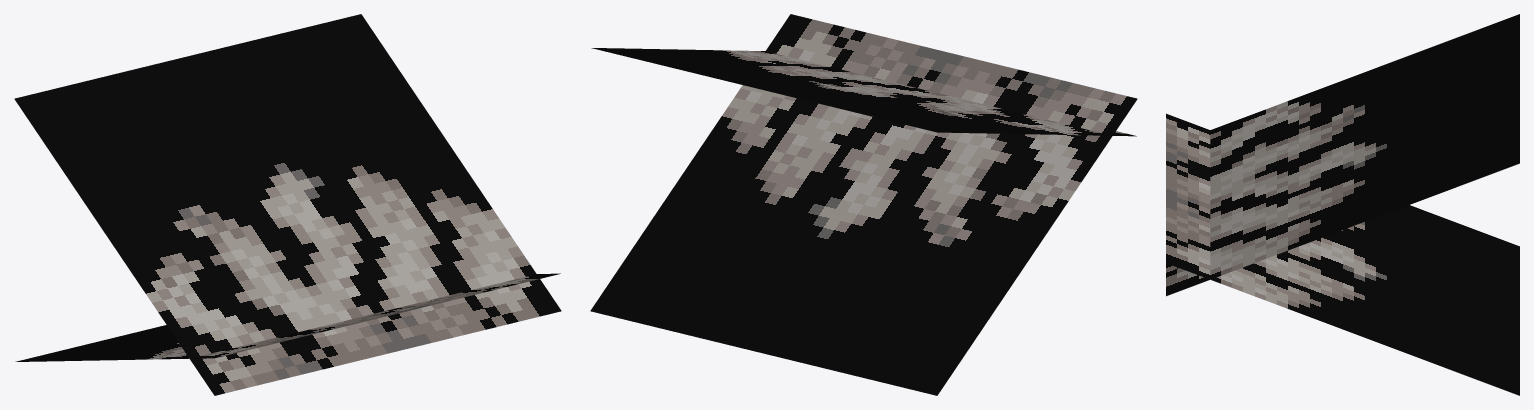
The model's file is block_dead_horn_coral_wall_fan.gltf.
3 views of the same model, side by side, from view 1: azimuth 30°, elevation 25°; view 2: azimuth 150°, elevation 25°; view 3: azimuth 270°, elevation 25° (orthographic). The views are drawn at different scales.
Visible parts, largest first — view 1: cube (×2); view 2: cube (×2); view 3: cube (×2).
Part boxes in pixels (box(x1,y1,x2,y2)): cube (×2): box(14, 14, 561, 395); cube (×2): box(590, 14, 1137, 395); cube (×2): box(1166, 14, 1519, 395).
Size of the model in its own units: 1 by 0.7249 by 1.
1 material, 1 textured.
